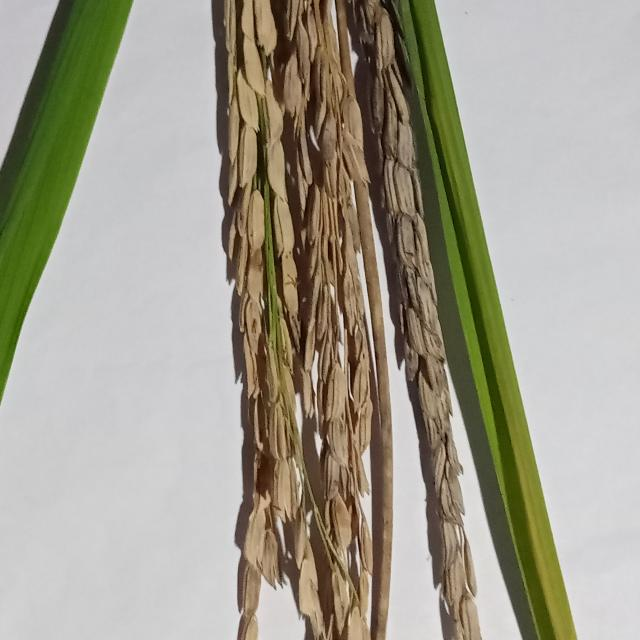Neck_Blast: (211, 0, 490, 640)
